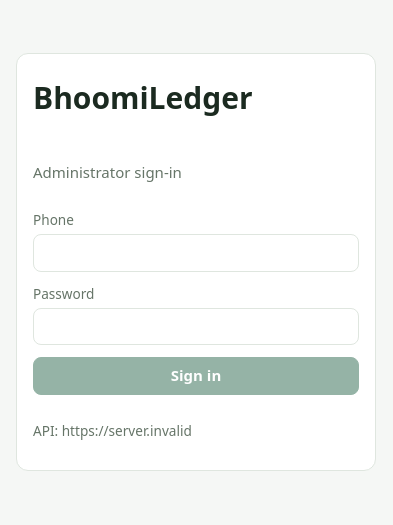
Scenario: admin panel › rejects a non-admin account
The width and height of the screenshot is (393, 525).
Step 1. Type "2222222222" into the field labelled "Phone" → coordinates (196, 253), box [33,234,359,272]
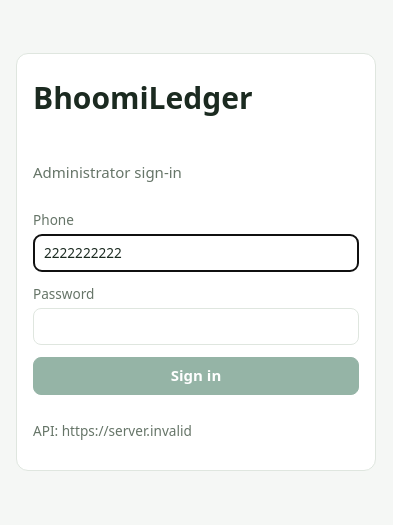
Step 2. Type "user123" into the password field labelled "Password" → coordinates (196, 326), box [33,308,359,345]
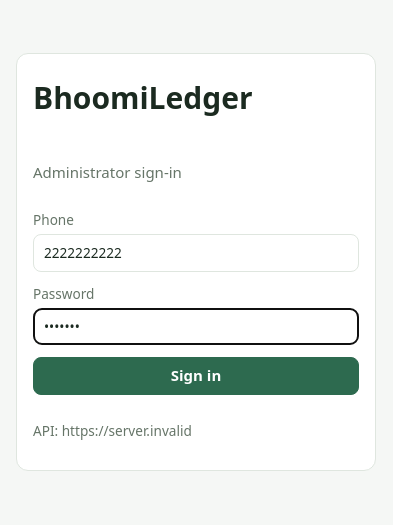
Step 3. Click the button "Sign in" → coordinates (196, 376), box [33,357,359,395]
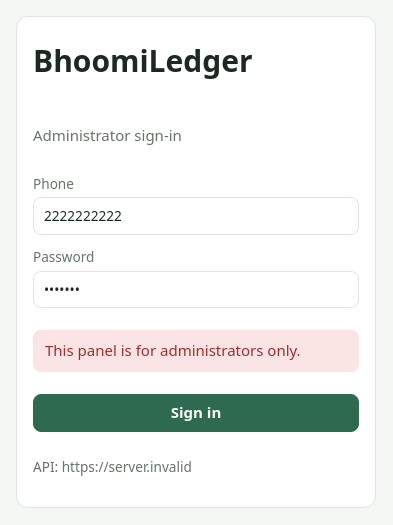
Now the message shows "administrators only", box [45,340,301,360]
